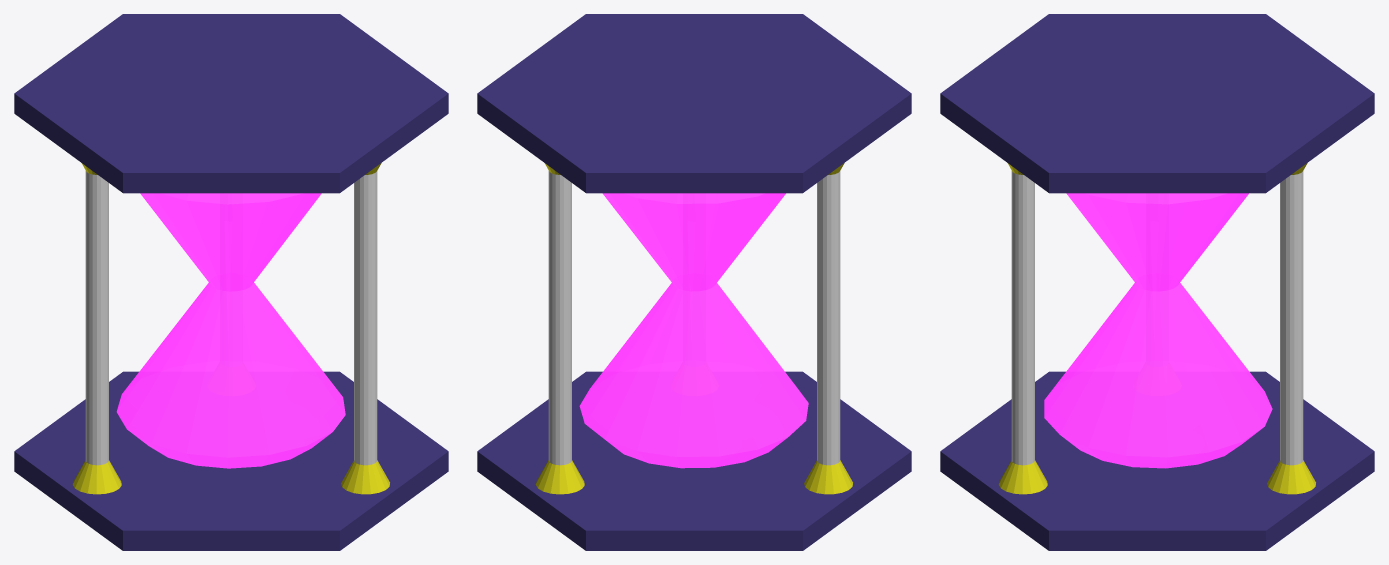
The model's file is magicwatch.fbx.
3 views of the same model, side by side, from view 1: azimuth 30°, elevation 25°; view 2: azimuth 150°, elevation 25°; view 3: azimuth 270°, elevation 25° (orthographic).
Visible parts, largest first — view 1: Cone; view 2: Cone; view 3: Cone.
Boxes of the visible parts, x1,y1,x2,y2 form: Cone: (14, 14, 448, 550); Cone: (477, 14, 911, 550); Cone: (940, 14, 1374, 550).
Bounding box in the file's own units: 267 × 296 × 308.
